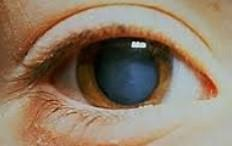eye: (75, 38, 173, 107)
